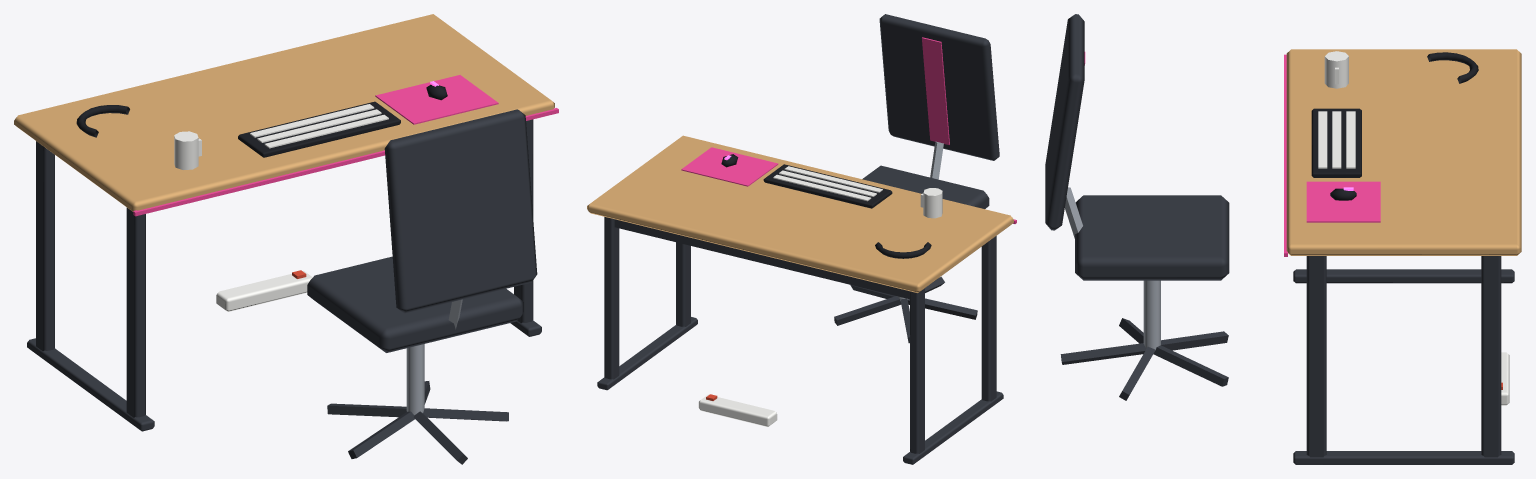
File: station_processing_basis.glb
The picture shows the model from 3 angles, left to right: view 1: azimuth 30°, elevation 25°; view 2: azimuth 150°, elevation 25°; view 3: azimuth 270°, elevation 25°; orthographic projection. The views are drawn at different scales.
Parts seen in each view (by area): view 1: station_processing_basis; view 2: station_processing_basis; view 3: station_processing_basis.
Boxes of the visible parts, <box> form: station_processing_basis: <box>14,14,558,464</box>; station_processing_basis: <box>587,14,1016,464</box>; station_processing_basis: <box>1045,14,1521,464</box>.
Size of the model in its own units: 1.4 by 1.08 by 1.42.
